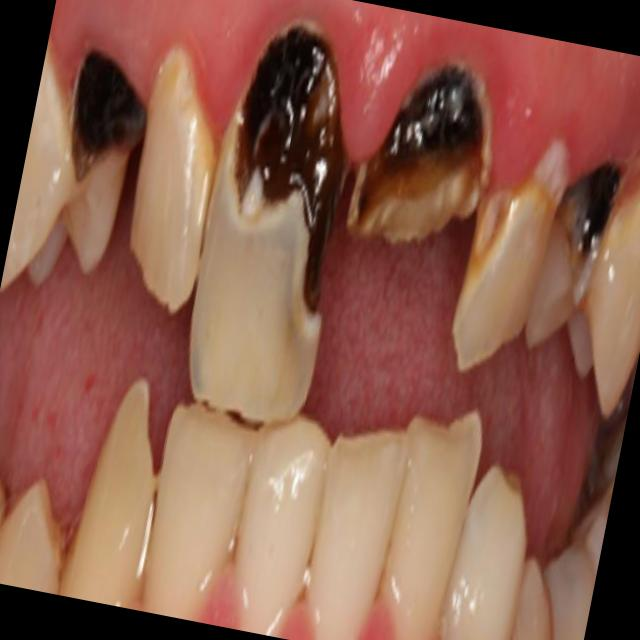Caries: (235, 22, 345, 315), (382, 66, 485, 169), (69, 52, 146, 183), (581, 167, 621, 257)
Cavity: (555, 162, 623, 302)
Tooth: (191, 22, 345, 421), (0, 45, 127, 291), (452, 142, 569, 370), (346, 64, 489, 243), (381, 410, 482, 640), (148, 405, 253, 621), (304, 433, 412, 640), (131, 50, 216, 312), (60, 381, 155, 607), (235, 418, 330, 635), (525, 162, 623, 348), (567, 188, 640, 416), (445, 466, 528, 640), (0, 479, 59, 594), (543, 541, 596, 640), (511, 559, 554, 640)
